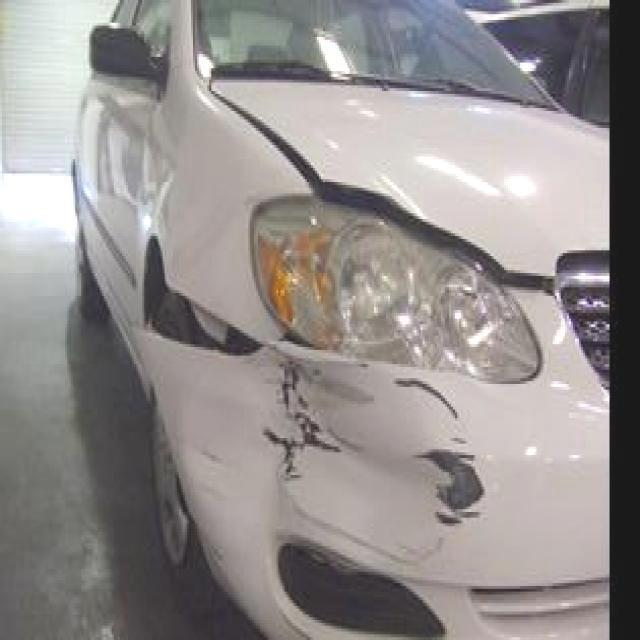minor: (140, 236, 486, 640), (260, 128, 552, 291)
moderate: (249, 346, 496, 569)
